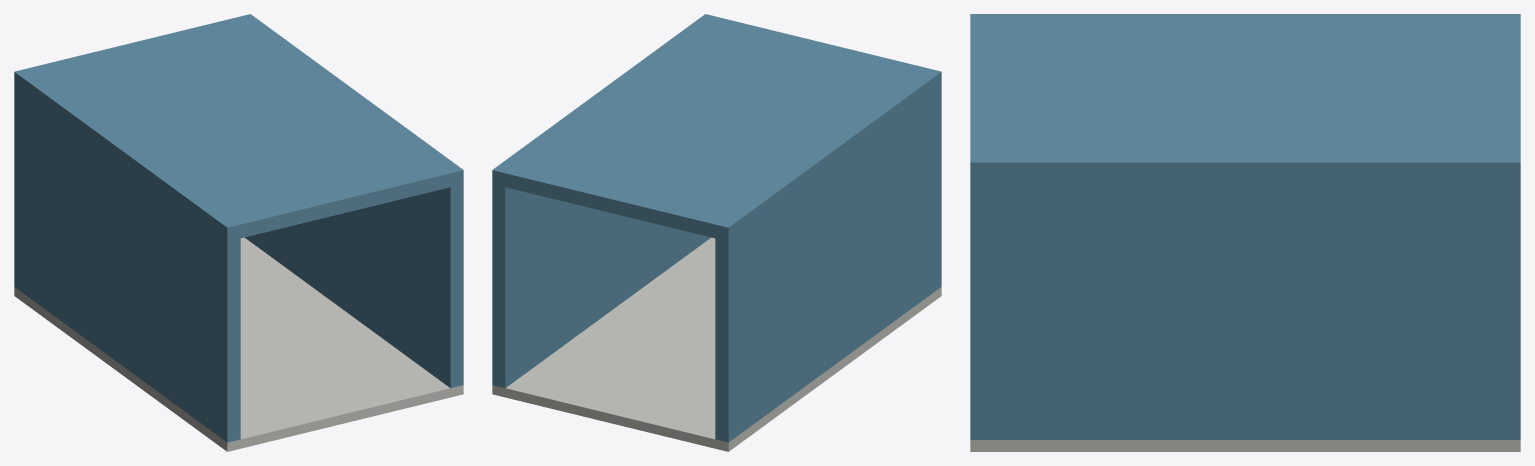
The model's file is american-football-stadium-kit-player-tunnel-3d9d8472__22353.glb.
The picture shows the model from 3 angles, left to right: view 1: azimuth 30°, elevation 25°; view 2: azimuth 150°, elevation 25°; view 3: azimuth 270°, elevation 25°; orthographic projection. The views are drawn at different scales.
Parts seen in each view (by area): view 1: player-tunnel; view 2: player-tunnel; view 3: player-tunnel.
Boxes of the visible parts, x1,y1,x2,y2 form: player-tunnel: (14,14,463,451); player-tunnel: (492,14,941,451); player-tunnel: (970,14,1520,451).
Size of the model in its own units: 3.2 by 2.9 by 5.
